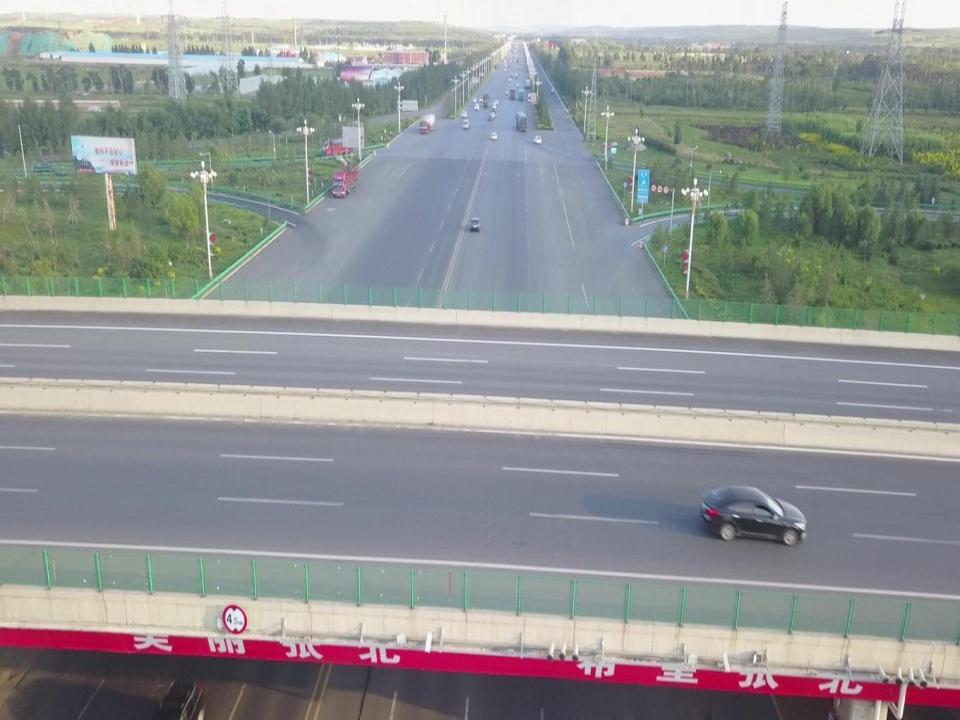car: (695, 476, 818, 554), (31, 161, 60, 174), (467, 214, 482, 232), (489, 129, 501, 143), (462, 118, 472, 130), (532, 135, 543, 145)
truck: (331, 162, 366, 199), (321, 135, 362, 157), (416, 112, 437, 135), (513, 109, 528, 132)
